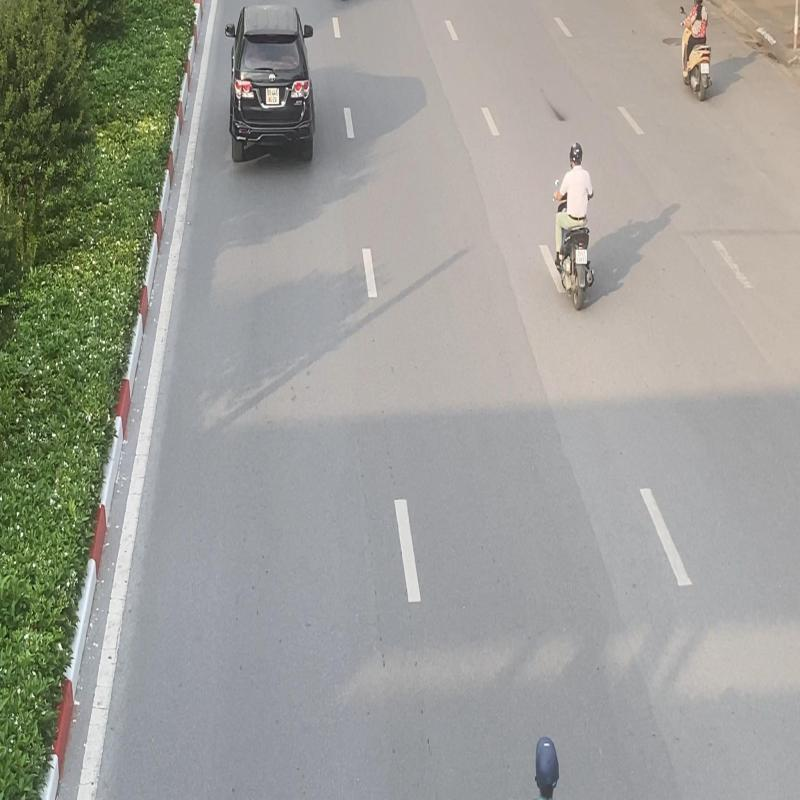helmet: (568, 141, 584, 167)
licenseplate: (576, 248, 588, 264)
motorcyclist: (552, 142, 596, 312)
